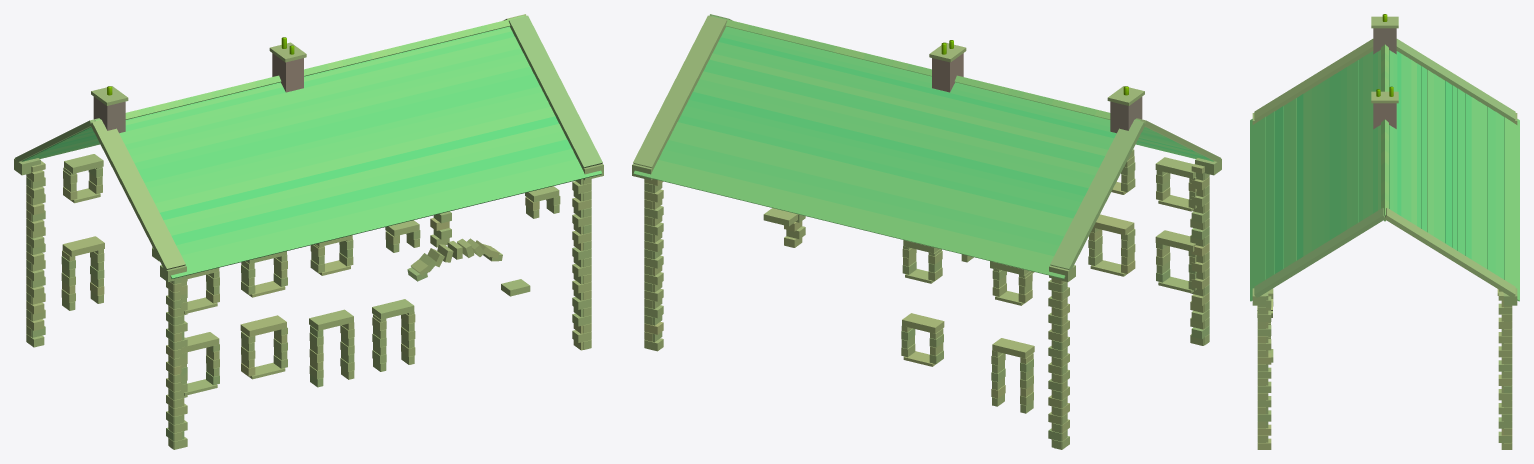
File: SM_Bld_208_Stone.glb
3 renders of one model, left to right at view 1: azimuth 30°, elevation 25°; view 2: azimuth 150°, elevation 25°; view 3: azimuth 270°, elevation 25°, orthographic. The views are drawn at different scales.
Parts seen in each view (by area): view 1: SM_Bld_208_Stone; view 2: SM_Bld_208_Stone; view 3: SM_Bld_208_Stone.
Boxes of the visible parts, box(x1,y1,x2,y2) form: SM_Bld_208_Stone: box(14, 14, 603, 449); SM_Bld_208_Stone: box(632, 14, 1221, 449); SM_Bld_208_Stone: box(1250, 14, 1519, 449).
Size of the model in its own units: 16.55 by 11.21 by 10.3.
